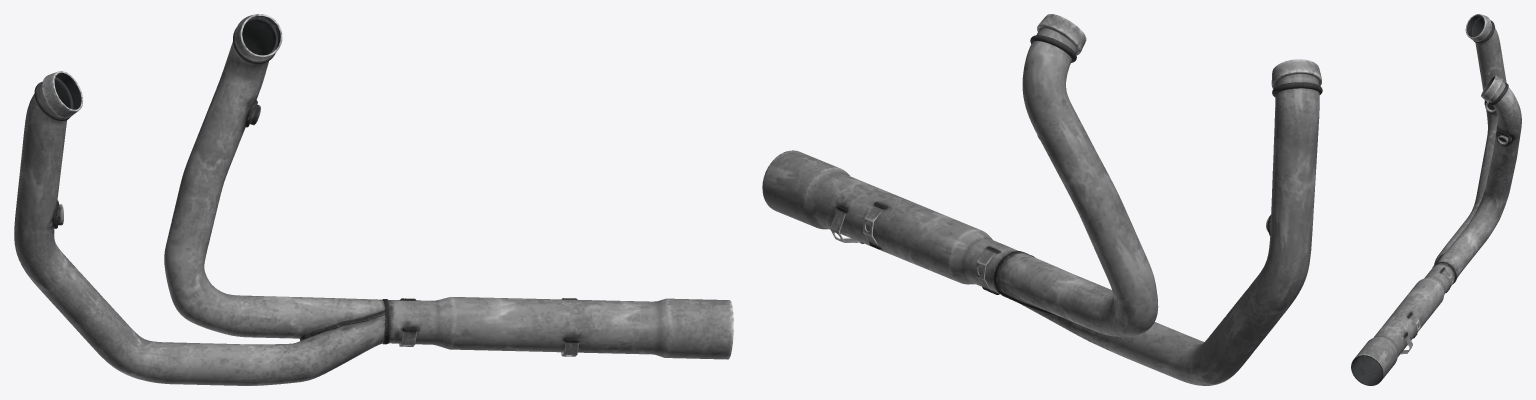
File: scarico_harley.glb
3 renders of one model, left to right at view 1: azimuth 30°, elevation 25°; view 2: azimuth 150°, elevation 25°; view 3: azimuth 270°, elevation 25°, orthographic. The views are drawn at different scales.
Visible parts, largest first — view 1: main_STEEL_0 (×2), weld_STEEL_0; view 2: main_STEEL_0 (×2), weld_STEEL_0, Cylinder.004_STEEL_0; view 3: main_STEEL_0 (×2), weld_STEEL_0, Cylinder.004_STEEL_0.
Part boxes in pixels (x1,y1,x2,y2): main_STEEL_0 (×2): [14, 14, 733, 385]; weld_STEEL_0: [52, 100, 580, 344]; main_STEEL_0 (×2): [762, 14, 1321, 385]; weld_STEEL_0: [836, 202, 1271, 315]; Cylinder.004_STEEL_0: [1030, 35, 1322, 96]; main_STEEL_0 (×2): [1351, 14, 1521, 385]; weld_STEEL_0: [1404, 100, 1511, 338]; Cylinder.004_STEEL_0: [1473, 20, 1508, 105].
Bounding box in the file's own units: 1.55 × 0.857 × 0.6414.
1 material, 1 textured.
